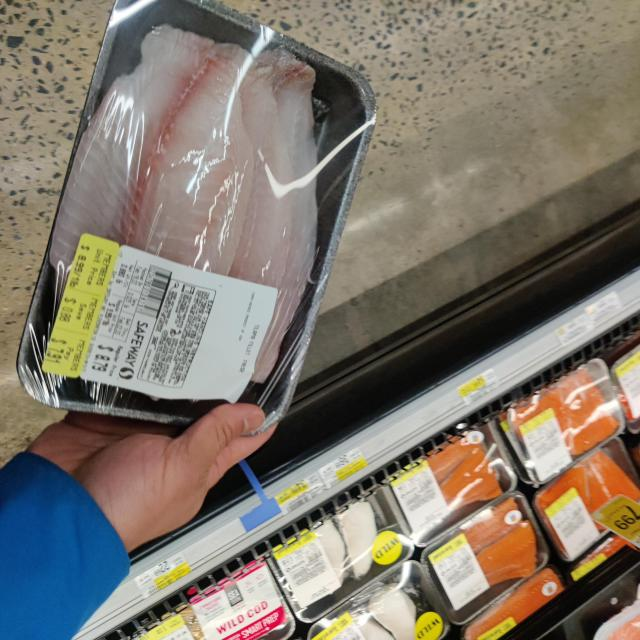Meat: (24, 0, 372, 427), (275, 486, 413, 621), (422, 490, 548, 625), (501, 359, 626, 480), (394, 433, 518, 544), (534, 437, 640, 564)
